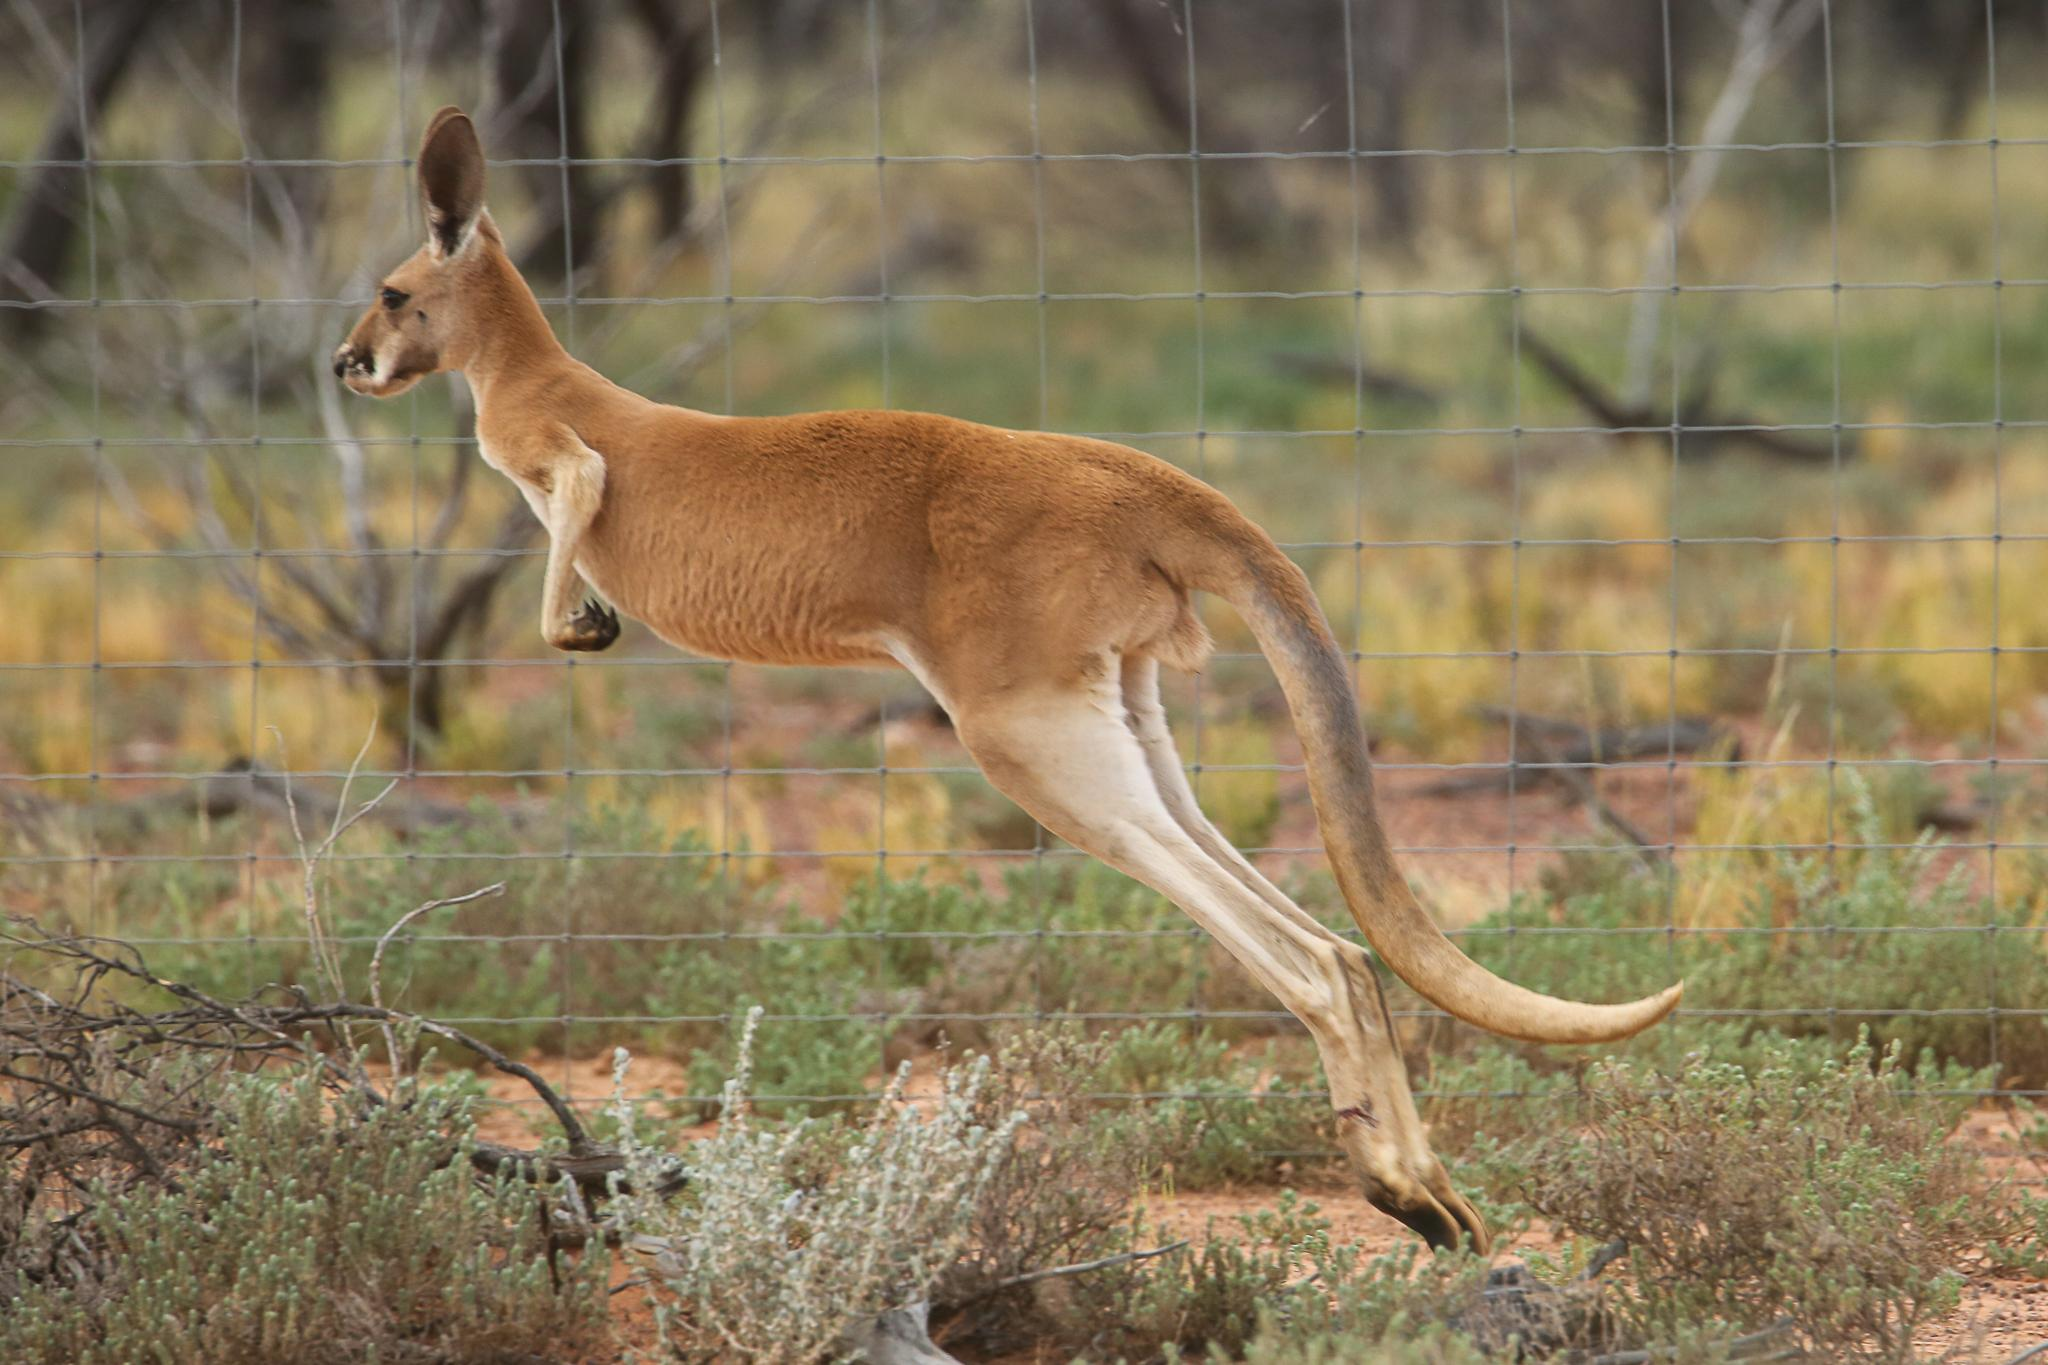Red kangaroo: (333, 108, 1690, 1254)
